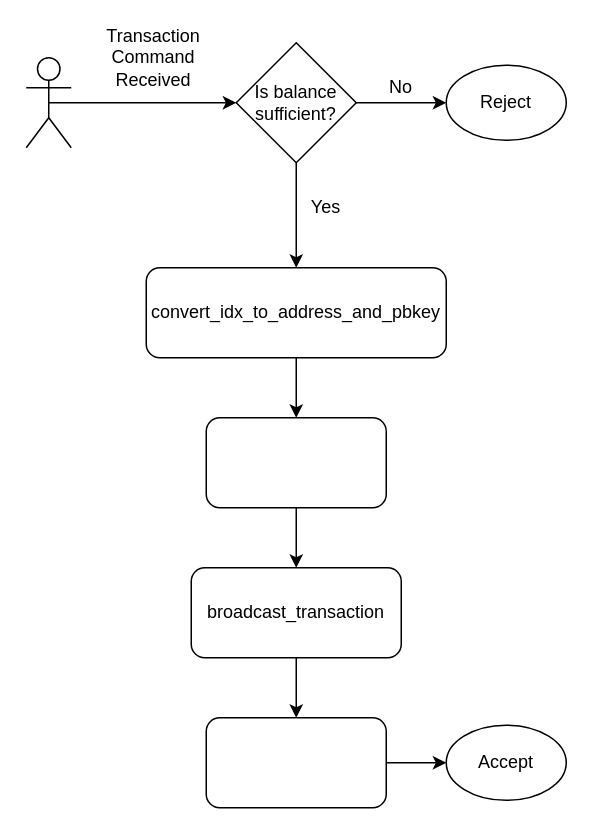
Image size: 593x834. Some labels were removed from this diagram. The box of each missing label's shape, as (x1, y1, x2, y2) in pixels:
get_sufficient_utxos: (205, 416, 386, 508)
receive transactrion (no validation): (205, 716, 386, 808)
Us: (25, 56, 71, 148)
